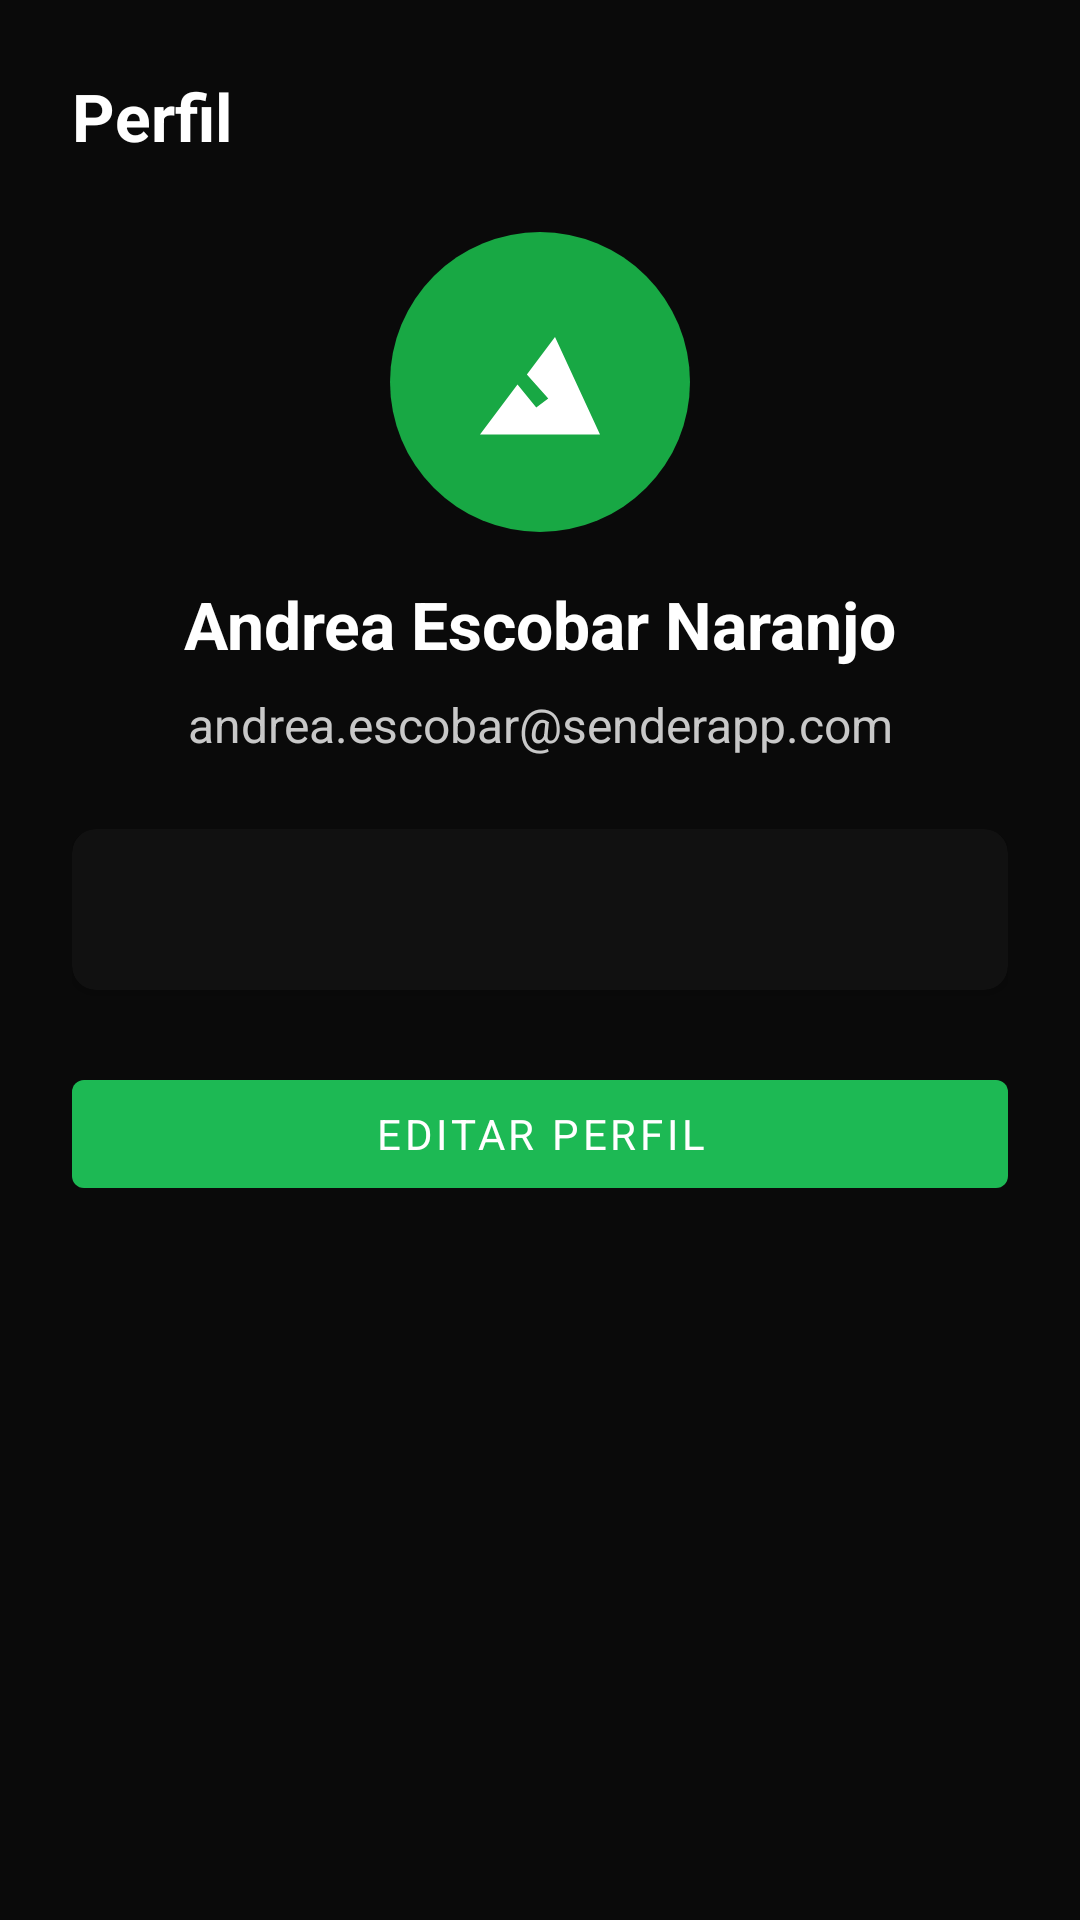

Icons on this 1080px x 1920px Android screen, each with its box as region(x1, y1, x2, y2):
Foto de perfil: region(390, 232, 690, 532)
